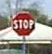stop: (10, 11, 35, 36)
